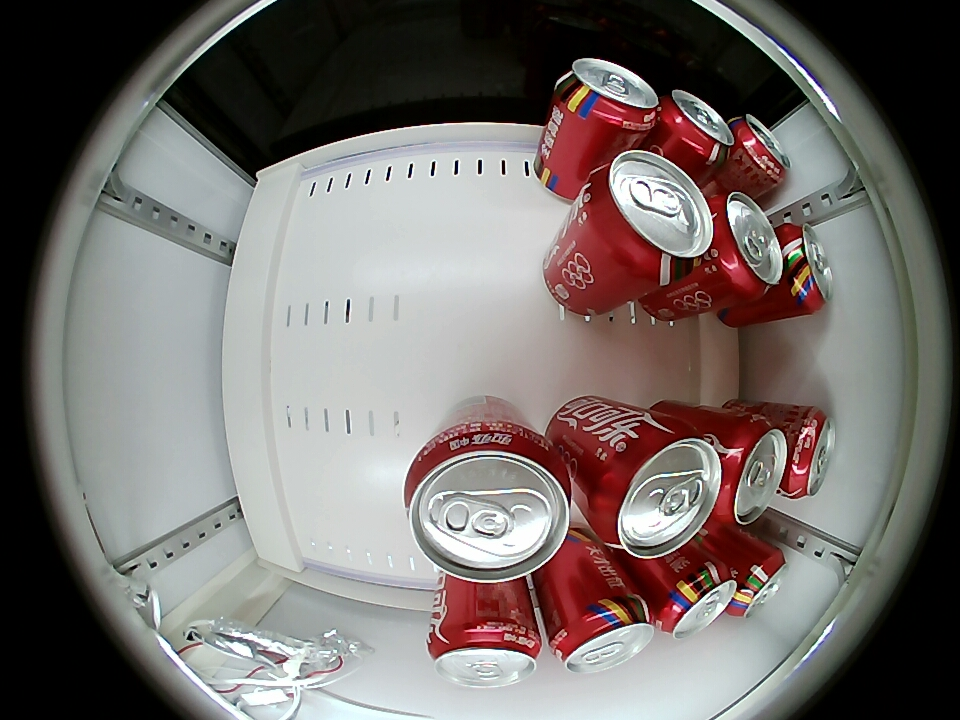kele: (404, 424, 572, 585), (589, 421, 722, 559), (584, 149, 714, 279), (707, 190, 783, 301), (551, 597, 655, 675), (714, 415, 787, 526), (429, 620, 542, 688), (556, 58, 659, 132), (656, 562, 735, 640), (659, 90, 733, 163), (782, 407, 834, 499), (780, 224, 833, 313), (728, 547, 787, 619), (732, 114, 790, 187)
